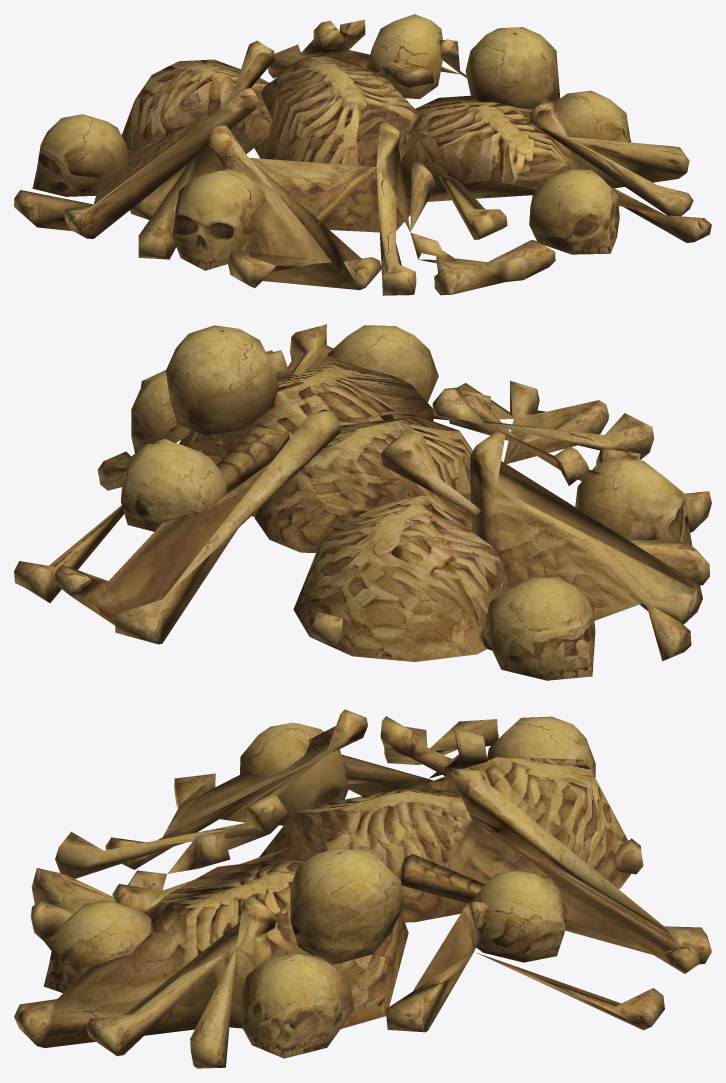
File: ossa.fbx
3 views of the same model, one above another, from view 1: azimuth 30°, elevation 25°; view 2: azimuth 150°, elevation 25°; view 3: azimuth 270°, elevation 25° (orthographic). The views are drawn at different scales.
Visible parts, largest first — view 1: tripo_node_1c03e002; view 2: tripo_node_1c03e002; view 3: tripo_node_1c03e002.
Part boxes in pixels (bbox=[...]): tripo_node_1c03e002: bbox=[14, 14, 711, 295]; tripo_node_1c03e002: bbox=[14, 324, 711, 680]; tripo_node_1c03e002: bbox=[14, 709, 711, 1068].
Bounding box in the file's own units: 0.9995 × 0.231 × 0.9058.
1 material, 1 textured.
